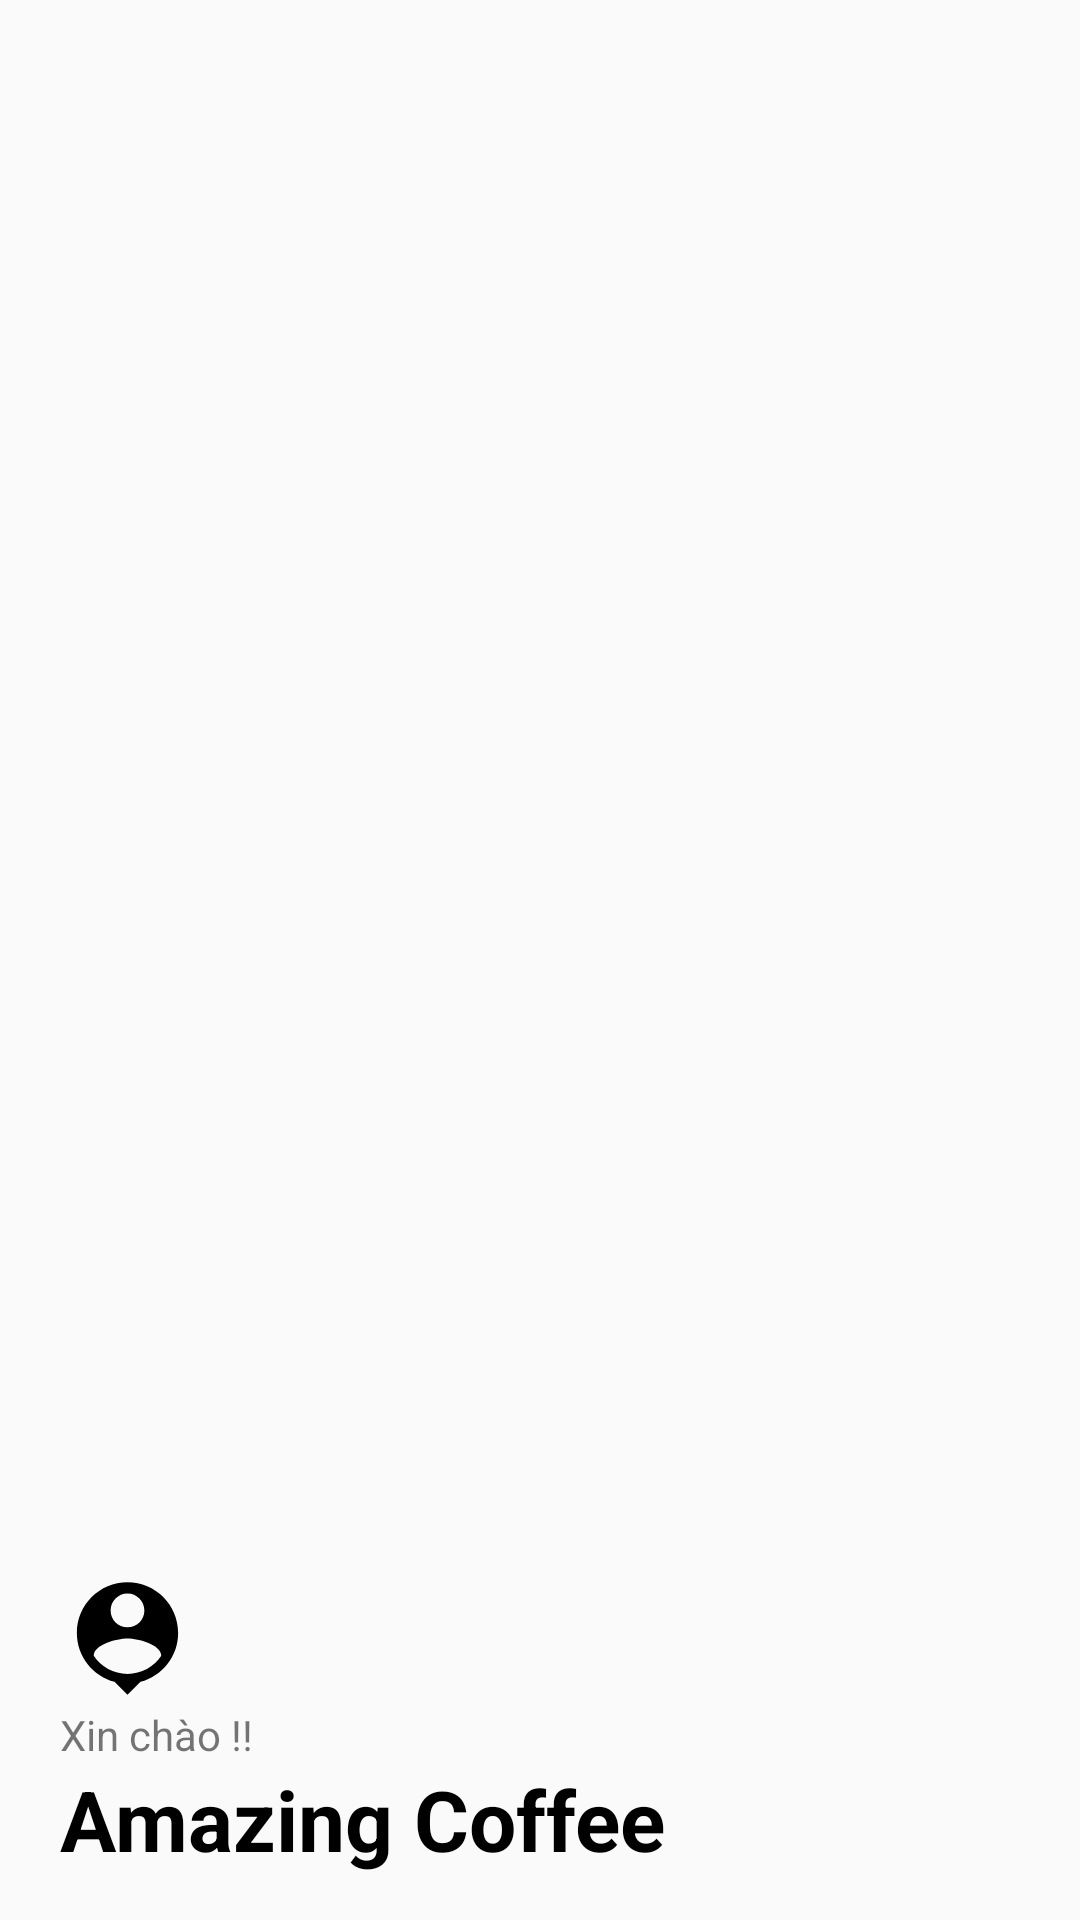

Point at icon controls on the screen. Image size 1080 x 1920, points as point (x, y).
person pin: point (127, 1638)
